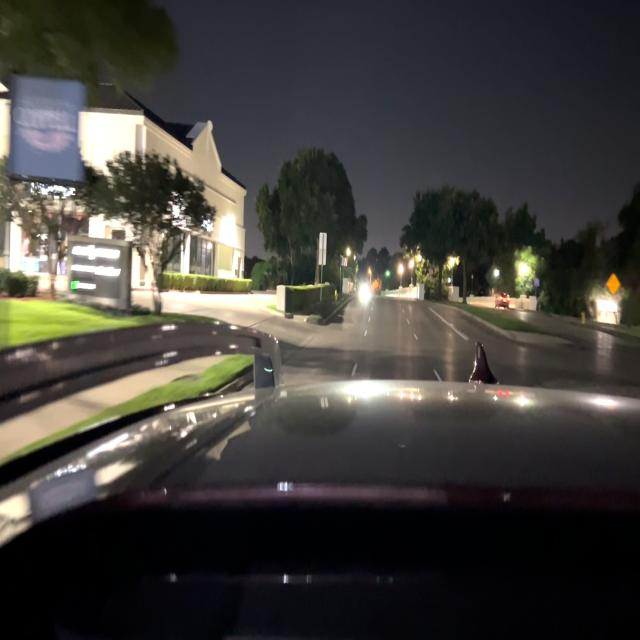back-of-sign: (319, 232, 327, 268)
